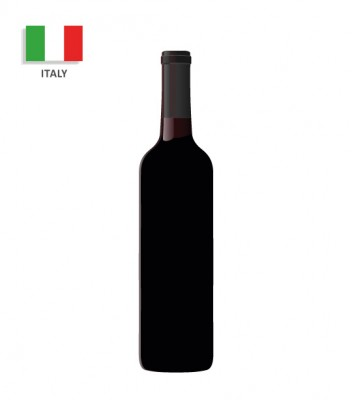glass_bottleww: (119, 24, 275, 393)
